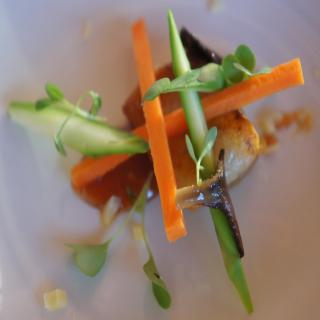Carrot: (69, 56, 305, 192), (129, 15, 188, 244)
